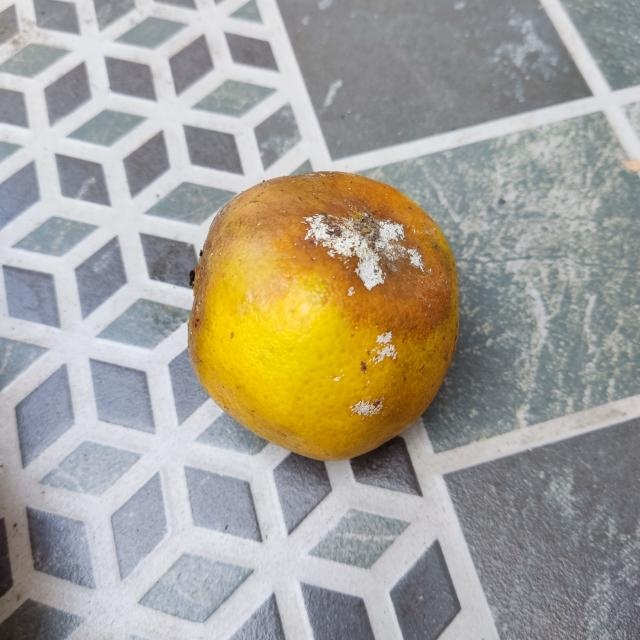agrume: (184, 170, 462, 464)
